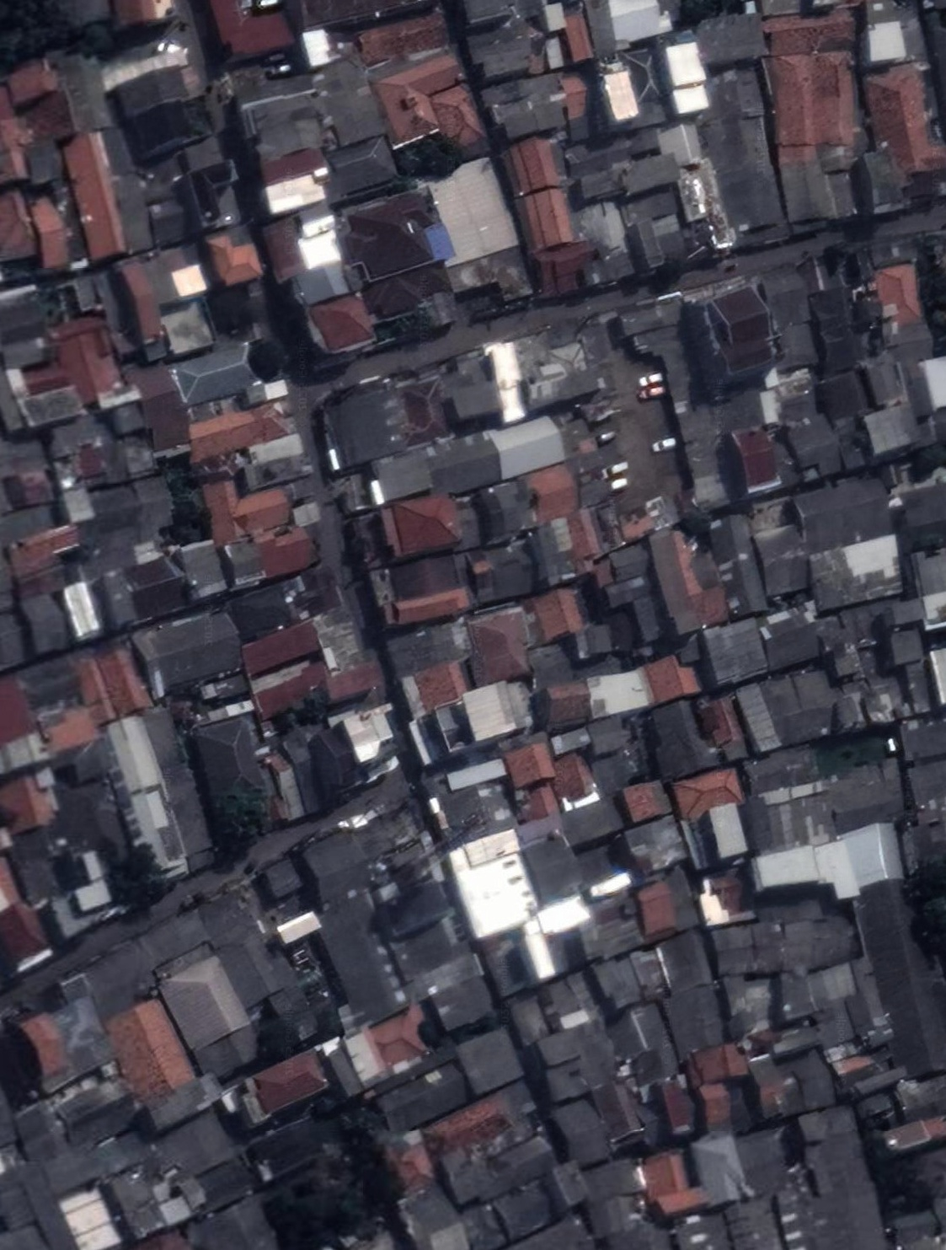building: (488, 805, 643, 981), (91, 702, 224, 888), (847, 874, 946, 1083), (686, 62, 794, 253), (762, 1100, 889, 1250), (92, 991, 219, 1136), (610, 293, 720, 456), (95, 711, 193, 886), (77, 905, 225, 1020), (721, 957, 876, 1060), (311, 888, 415, 1030), (155, 952, 266, 1083), (25, 646, 153, 758), (384, 916, 496, 1041), (624, 521, 737, 644), (321, 996, 446, 1102), (0, 42, 116, 152), (12, 972, 113, 1097), (424, 1077, 547, 1178), (405, 676, 536, 766), (46, 130, 132, 267), (444, 824, 543, 941), (129, 601, 248, 698), (420, 154, 520, 268), (366, 431, 505, 513), (368, 45, 479, 146), (331, 188, 445, 285), (17, 311, 119, 418), (734, 738, 838, 842), (687, 279, 788, 386), (214, 1047, 332, 1138), (1, 1086, 94, 1201), (509, 312, 616, 403), (718, 1122, 794, 1250), (272, 201, 357, 308), (788, 478, 900, 558), (734, 667, 837, 753), (212, 513, 318, 596), (439, 1134, 559, 1206), (147, 1145, 251, 1228), (593, 996, 679, 1096), (137, 1108, 238, 1193), (561, 124, 668, 203), (863, 58, 934, 176), (561, 790, 640, 896), (801, 534, 909, 611), (812, 596, 907, 682), (42, 1064, 135, 1151), (373, 1059, 475, 1138), (677, 402, 749, 513), (447, 471, 541, 556), (751, 834, 857, 909), (182, 395, 297, 463), (124, 358, 200, 458), (319, 384, 407, 470), (638, 692, 720, 784), (372, 550, 471, 626), (238, 75, 325, 161), (41, 410, 128, 496), (205, 467, 296, 549), (668, 156, 740, 259), (0, 1154, 79, 1247), (449, 602, 534, 688), (365, 872, 458, 950), (530, 1017, 614, 1103), (310, 52, 388, 143), (81, 471, 173, 548), (211, 918, 288, 1009), (74, 1109, 160, 1189), (196, 0, 291, 72), (427, 773, 517, 849), (573, 1155, 655, 1238), (243, 1111, 332, 1187), (615, 184, 691, 273), (169, 339, 261, 411), (250, 945, 316, 1045), (495, 734, 568, 824), (292, 823, 374, 903), (485, 408, 573, 482), (338, 795, 428, 867), (659, 972, 736, 1056), (823, 756, 908, 832), (779, 402, 854, 487), (359, 258, 454, 325), (445, 244, 534, 315), (376, 488, 460, 562), (707, 509, 765, 616), (625, 866, 703, 944), (595, 44, 663, 133), (245, 654, 334, 721), (0, 590, 73, 671), (822, 1027, 900, 1102), (189, 715, 261, 796), (804, 44, 858, 152), (761, 51, 820, 149), (316, 133, 398, 203), (303, 287, 379, 362), (483, 75, 568, 141), (394, 1179, 473, 1250), (124, 95, 214, 157), (2, 515, 86, 581), (687, 5, 769, 72), (680, 797, 753, 872), (900, 754, 946, 873), (109, 58, 198, 119), (773, 138, 834, 227), (0, 763, 72, 838), (464, 533, 539, 605), (183, 1195, 281, 1250), (546, 1092, 615, 1170), (354, 12, 450, 68), (103, 1159, 170, 1239), (384, 614, 469, 677), (632, 1147, 704, 1221), (747, 600, 822, 670), (113, 255, 170, 346), (574, 197, 635, 282), (301, 724, 365, 805), (695, 617, 768, 688), (844, 814, 910, 892), (435, 350, 500, 429), (0, 672, 49, 775), (747, 519, 813, 595), (594, 492, 680, 550), (474, 926, 540, 1000), (463, 20, 544, 80), (511, 907, 574, 984), (143, 239, 212, 309), (616, 813, 689, 879), (779, 1043, 844, 1117), (182, 158, 246, 233), (119, 554, 192, 619), (237, 618, 319, 675), (585, 0, 673, 53), (514, 178, 577, 252), (821, 674, 895, 737), (316, 651, 390, 714), (394, 655, 473, 714), (529, 236, 604, 298), (889, 545, 945, 628), (0, 896, 57, 976), (515, 520, 581, 589), (648, 919, 712, 990), (522, 825, 581, 902), (458, 1027, 524, 1095), (658, 39, 716, 116), (766, 5, 857, 54), (308, 604, 369, 677), (392, 369, 451, 444), (106, 170, 158, 255), (666, 763, 744, 819), (519, 457, 584, 524), (483, 338, 533, 425), (891, 476, 946, 555), (582, 659, 654, 719), (195, 886, 261, 951), (490, 1179, 558, 1242), (690, 1131, 746, 1207), (525, 580, 588, 646), (336, 703, 401, 766), (812, 285, 858, 374), (677, 1035, 746, 1094), (26, 192, 76, 273), (858, 399, 923, 461), (691, 868, 754, 931), (762, 261, 819, 330), (730, 421, 781, 498), (62, 1180, 118, 1250), (202, 226, 264, 289), (499, 131, 559, 196), (868, 259, 924, 328), (534, 970, 597, 1031), (755, 367, 818, 427), (588, 1075, 642, 1144), (382, 1128, 440, 1192), (550, 506, 608, 570), (854, 148, 907, 218), (258, 214, 311, 284), (424, 83, 481, 148), (156, 298, 216, 359), (288, 255, 353, 311), (695, 693, 746, 764), (808, 366, 870, 423), (641, 648, 704, 704), (500, 1213, 596, 1249), (852, 0, 904, 66), (302, 0, 433, 26), (44, 884, 103, 941), (743, 1049, 787, 1125), (260, 169, 328, 218), (17, 382, 86, 430), (858, 351, 912, 412), (381, 827, 441, 881), (709, 916, 763, 975), (587, 744, 647, 797), (1, 460, 58, 515), (618, 149, 680, 199), (879, 1111, 946, 1157), (535, 678, 595, 728), (883, 658, 932, 719), (653, 113, 705, 169), (881, 317, 937, 369), (709, 386, 768, 435), (533, 892, 593, 940), (0, 285, 46, 347), (804, 911, 854, 968), (503, 985, 551, 1044), (899, 707, 946, 767), (545, 751, 595, 807), (591, 954, 638, 1013), (523, 639, 576, 691), (621, 217, 669, 274), (625, 942, 669, 1003), (894, 1071, 946, 1122), (615, 776, 669, 825), (553, 407, 600, 461), (442, 755, 507, 793), (255, 855, 305, 904), (544, 1159, 590, 1212), (145, 194, 191, 247), (554, 8, 596, 65), (883, 1208, 938, 1250), (794, 251, 841, 300), (584, 713, 634, 758), (246, 431, 305, 469), (459, 0, 545, 26), (295, 226, 344, 271), (116, 431, 159, 480), (673, 1213, 731, 1249), (620, 189, 678, 224), (605, 540, 653, 582), (601, 1219, 669, 1248), (273, 908, 323, 947), (569, 619, 615, 661), (102, 399, 147, 440), (574, 464, 614, 508), (69, 877, 114, 916), (629, 594, 664, 644), (695, 1083, 729, 1134), (603, 572, 651, 608), (110, 0, 174, 26), (558, 71, 591, 121), (664, 1075, 691, 1136), (57, 484, 96, 525), (570, 443, 615, 478), (779, 921, 811, 968), (548, 725, 592, 756), (76, 846, 108, 884), (887, 627, 921, 660), (925, 646, 944, 704), (587, 556, 618, 589), (542, 35, 566, 70), (541, 1, 567, 32)
tree: (102, 844, 174, 917), (203, 786, 272, 860), (273, 1193, 360, 1247), (392, 132, 460, 187), (158, 469, 207, 543), (204, 279, 264, 338), (917, 864, 946, 968), (332, 1100, 385, 1153), (250, 1011, 302, 1065), (347, 1155, 397, 1211), (239, 334, 288, 387), (383, 305, 432, 346), (922, 269, 944, 354), (450, 1012, 498, 1046), (311, 1005, 343, 1041), (297, 693, 329, 726), (341, 538, 370, 568), (416, 1019, 441, 1050)
